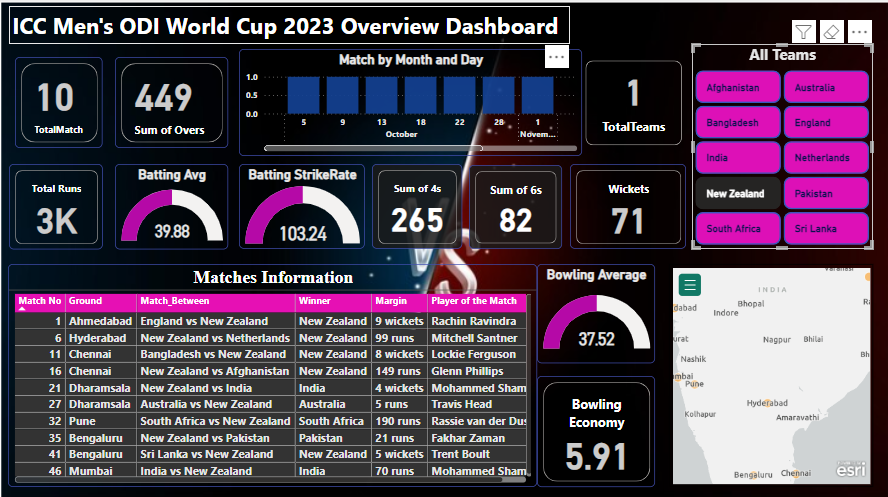

What the dashboard file says about the page in this screenshot:
{"tool":"powerbi","page":{"name":"ICC World Cup 2023 Overall Tournament Overview","canvas":[1280,720],"ordinal":0},"visuals":[{"type":"cardVisual","fields":{"Data":["Sum(bowling_summary.Overs)"]},"box":[165.9,84.1,162.5,130.7],"z":0},{"type":"cardVisual","fields":{"Data":["Key_Measures.wickets"]},"box":[820.8,237.6,167,122.4],"z":1000},{"type":"cardVisual","fields":{"Data":["Key_Measures.Total Runs"]},"box":[12.5,237.5,135.2,122.7],"z":2000},{"type":"lineClusteredColumnComboChart","title":"Match by Month and Day","fields":{"Category":["matches_schedule_results.Date.Variation.Date Hierarchy.Month","matches_schedule_results.Date.Variation.Date Hierarchy.Day"],"Y":["CountNonNull(matches_schedule_results.Match No)"]},"box":[344.2,72,493.9,154.1],"z":3000},{"type":"tableEx","title":"     Matches Information","fields":{"Values":["matches_schedule_results.Match No","matches_schedule_results.Ground","batting_summary_out.Match_Between","matches_schedule_results.Winner","matches_schedule_results.Margin","matches_schedule_results.Player of the Match"]},"box":[11.5,381.6,761.8,321.1],"z":4000},{"type":"advancedSlicerVisual","title":"All Teams","fields":{"Values":["world_cup_players_info.team_name"]},"box":[996.5,64.8,260.6,295.2],"z":5000},{"type":"cardVisual","title":"4s","fields":{"Data":["Sum(batting_summary_out.4s)"]},"box":[535.7,237.6,129.6,122.4],"z":6000},{"type":"cardVisual","fields":{"Data":["Sum(batting_summary_out.6s)"]},"box":[675.4,239,133.9,121],"z":7000},{"type":"cardVisual","fields":{"Data":["Key_Measures.TotalTeams"]},"box":[838.1,83.5,149.8,132.5],"z":8000},{"type":"cardVisual","fields":{"Data":["Key_Measures.TotalMatchesCount"]},"box":[21.6,84.1,126.1,130.7],"z":9000},{"type":"cardVisual","fields":{"Data":["Key_Measures.Economy"]},"box":[773.1,543.3,170.1,159.7],"z":10000},{"type":"gauge","fields":{"Y":["Key_Measures.Bowling Average"]},"box":[773.3,381.6,169.9,142.6],"z":11000},{"type":"gauge","fields":{"Y":["Key_Measures.Batting Avg"]},"box":[165.9,237.5,162.5,122.7],"z":12000},{"type":"gauge","fields":{"Y":["Key_Measures.Strike rate"]},"box":[344.2,237.6,181.4,122.4],"z":13000},{"type":"textbox","box":[12.5,10.2,808,54.5],"z":14000},{"type":"esriVisual","fields":{"Location":["matches_schedule_results.Ground"]},"box":[963.4,381.6,293.8,321.1],"z":15000}]}

Visuals, with their boxes in screenshot pixels (x1, y1, x2, y2), scaled from the page's 1280x720 canvas onto the 888x497 screenshot:
cardVisual - Sum(bowling_summary.Overs): pyautogui.locateOnScreen(115, 58, 228, 148)
cardVisual - Key_Measures.wickets: pyautogui.locateOnScreen(569, 164, 685, 248)
cardVisual - Key_Measures.Total Runs: pyautogui.locateOnScreen(9, 164, 102, 249)
"Match by Month and Day" lineClusteredColumnComboChart: pyautogui.locateOnScreen(239, 50, 581, 156)
"     Matches Information" tableEx: pyautogui.locateOnScreen(8, 263, 536, 485)
"All Teams" advancedSlicerVisual: pyautogui.locateOnScreen(691, 45, 872, 248)
"4s" cardVisual: pyautogui.locateOnScreen(372, 164, 462, 248)
cardVisual - Sum(batting_summary_out.6s): pyautogui.locateOnScreen(469, 165, 561, 248)
cardVisual - Key_Measures.TotalTeams: pyautogui.locateOnScreen(581, 58, 685, 149)
cardVisual - Key_Measures.TotalMatchesCount: pyautogui.locateOnScreen(15, 58, 102, 148)
cardVisual - Key_Measures.Economy: pyautogui.locateOnScreen(536, 375, 654, 485)
gauge - Key_Measures.Bowling Average: pyautogui.locateOnScreen(536, 263, 654, 362)
gauge - Key_Measures.Batting Avg: pyautogui.locateOnScreen(115, 164, 228, 249)
gauge - Key_Measures.Strike rate: pyautogui.locateOnScreen(239, 164, 365, 248)
textbox: pyautogui.locateOnScreen(9, 7, 569, 45)
esriVisual - matches_schedule_results.Ground: pyautogui.locateOnScreen(668, 263, 872, 485)
